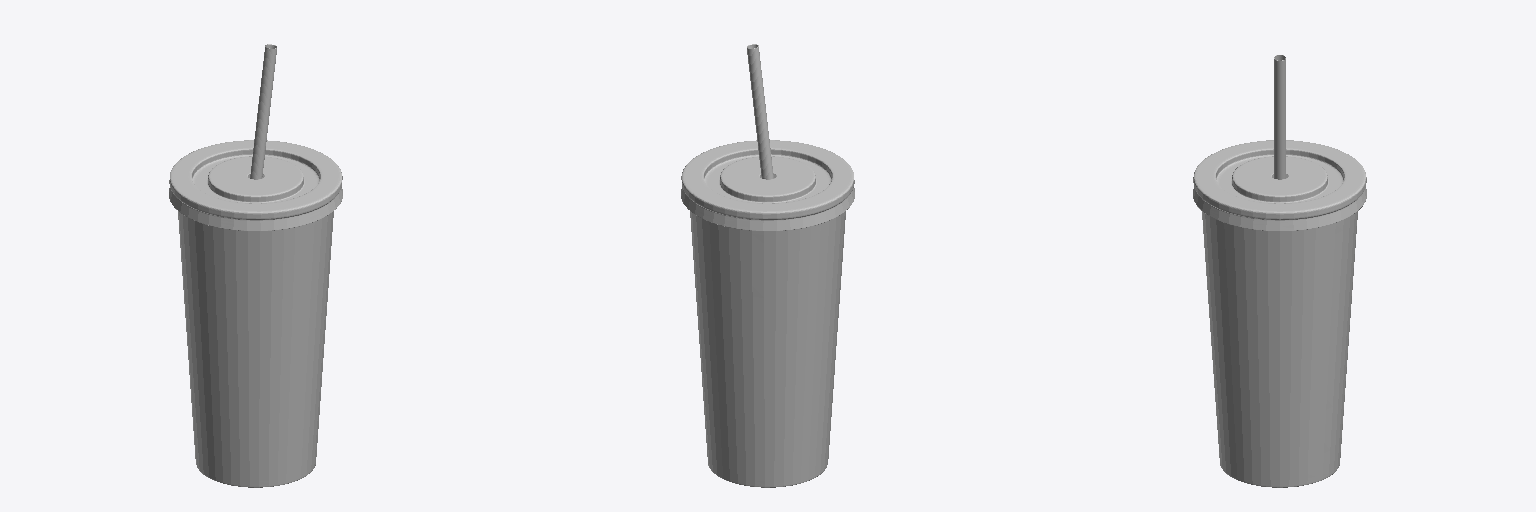
File: 10876_Softdrink_v1_L3.obj
The picture shows the model from 3 angles: view 1: azimuth 30°, elevation 25°; view 2: azimuth 150°, elevation 25°; view 3: azimuth 270°, elevation 25°; orthographic projection.
Visible parts, largest first — view 1: Softdrink 网格; view 2: Softdrink 网格; view 3: Softdrink 网格.
Boxes of the visible parts, <box> form: Softdrink 网格: <box>169,44,342,487</box>; Softdrink 网格: <box>681,44,854,487</box>; Softdrink 网格: <box>1193,55,1366,487</box>.
Bounding box in the file's own units: 0.0778 × 0.2026 × 0.0777.